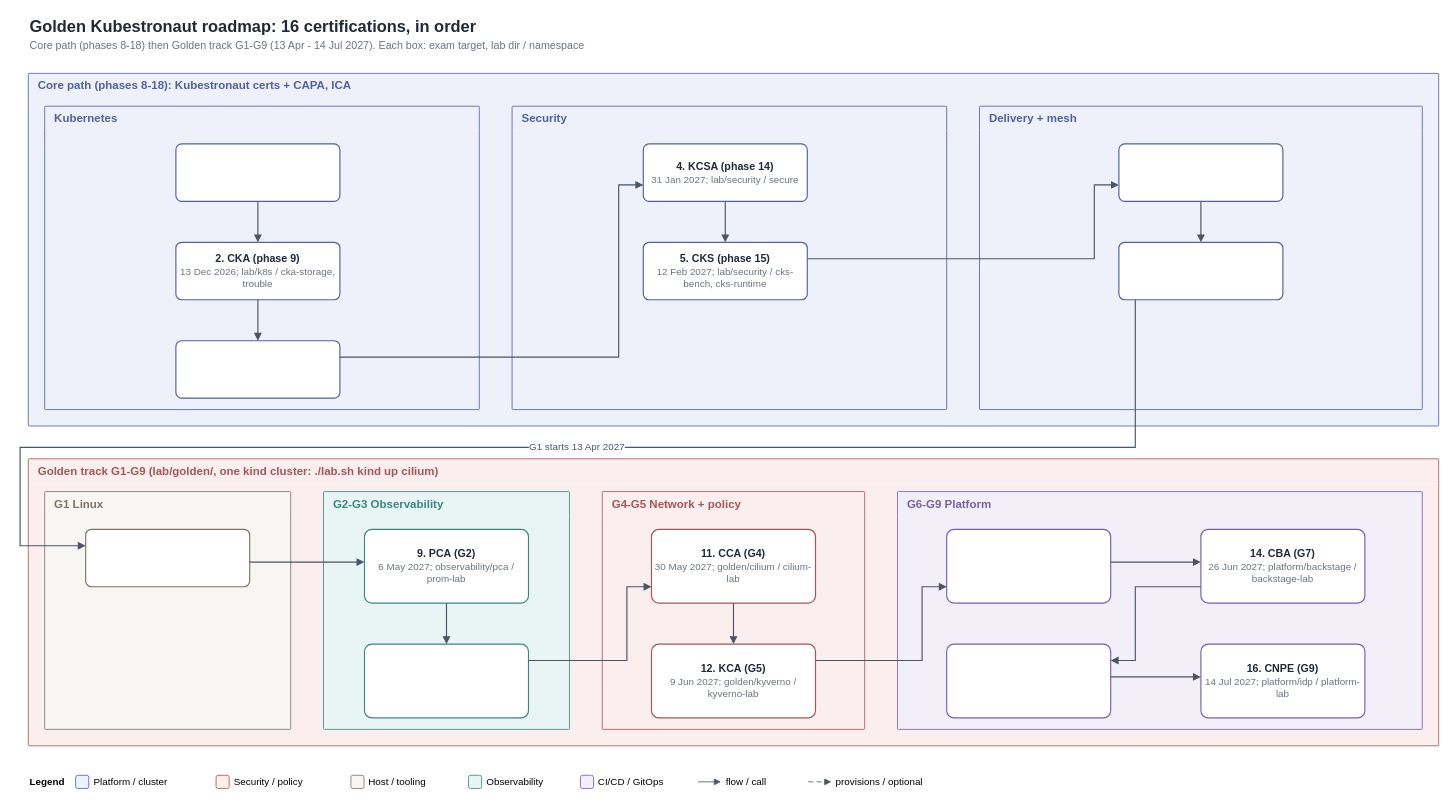
The diagram is 1454 pixels wide and 804 high, and some of its shapes have lost their labels. The shapes that lost their labels are listed below. From the top down, each one's centre as x and y in pixels, then its label:
At [257,172]: "1. KCNA (phase 8) 2 Dec 2026; lab/k8s / shop".
At [1200,172]: "6. CAPA (phase 17) 26 Feb 2027; lab/gitops / rollouts-demo".
At [1200,270]: "7. ICA (phase 18) 6 Mar 2027; lab/mesh / mesh-bookinfo".
At [257,369]: "3. CKAD (phase 10) 21 Dec 2026; golden/ckad / ckad-lab".
At [167,557]: "8. LFCS (G1) 22 Apr 2027; golden/lfcs (Ubuntu VMs, no ns)".
At [1028,565]: "13. CGOA (G6) 16 Jun 2027; platform/flux / flux-lab".
At [446,680]: "10. OTCA (G3) 16 May 2027; observability/otel / otel-lab".
At [1028,680]: "15. CNPA (G8) 3 Jul 2027; platform/idp / platform-lab".
